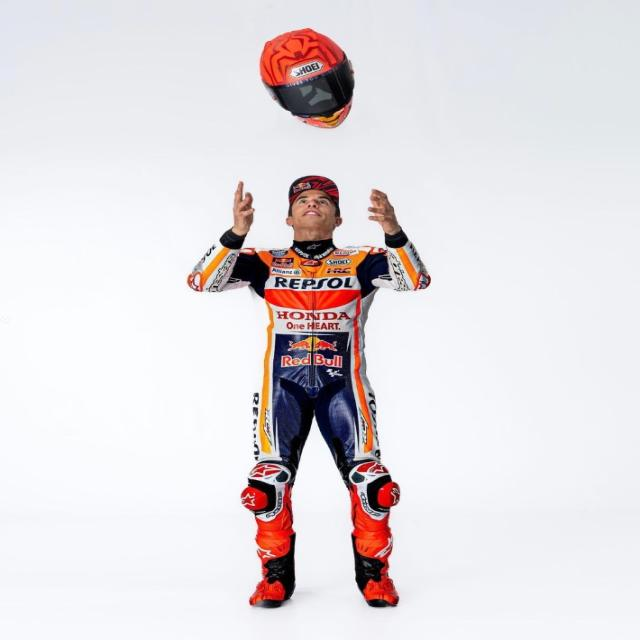helmet: (256, 24, 358, 132)
illegal_helmet: (281, 172, 347, 236)
